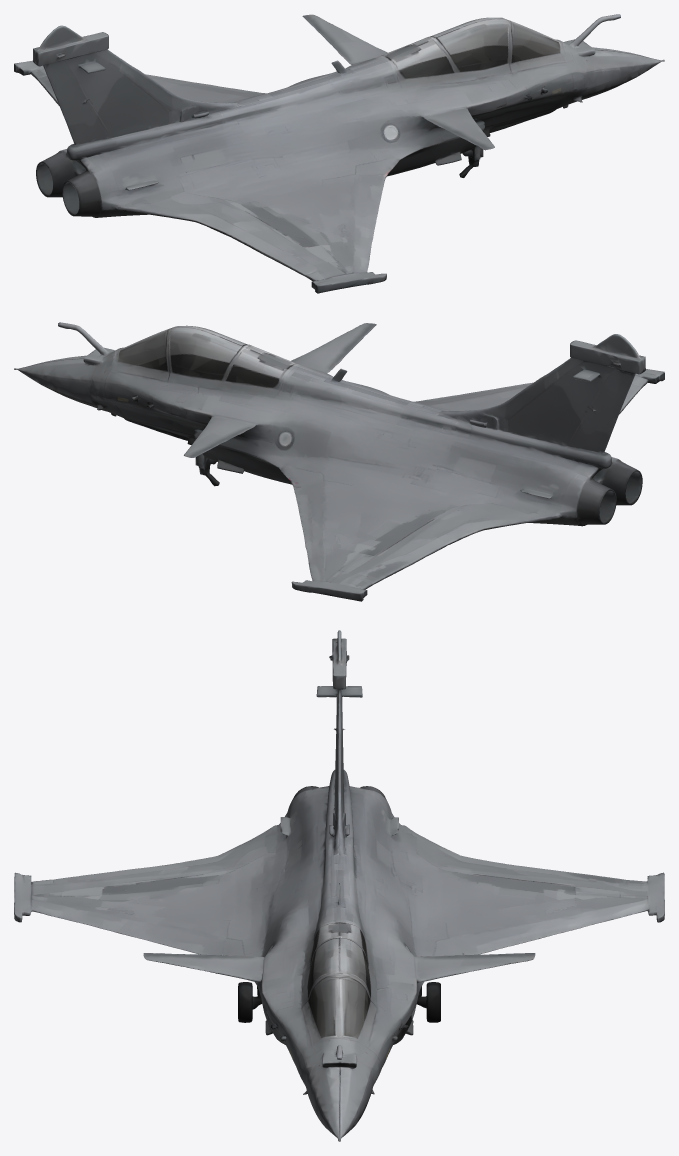
Rendered from caca_leve.glb.
3 renders of one model, top to bottom at view 1: azimuth 30°, elevation 25°; view 2: azimuth 150°, elevation 25°; view 3: azimuth 270°, elevation 25°, orthographic. The views are drawn at different scales.
Parts seen in each view (by area): view 1: tripo_node_da3f3a08-e2d0-4019-8abe-310ce13fe0a8; view 2: tripo_node_da3f3a08-e2d0-4019-8abe-310ce13fe0a8; view 3: tripo_node_da3f3a08-e2d0-4019-8abe-310ce13fe0a8.
Boxes of the visible parts, bbox=[...] form: tripo_node_da3f3a08-e2d0-4019-8abe-310ce13fe0a8: bbox=[14, 14, 664, 293]; tripo_node_da3f3a08-e2d0-4019-8abe-310ce13fe0a8: bbox=[14, 322, 664, 601]; tripo_node_da3f3a08-e2d0-4019-8abe-310ce13fe0a8: bbox=[14, 630, 664, 1141].
Bounding box in the file's own units: 0.9991 × 0.401 × 0.8365.
1 material, 1 textured.
